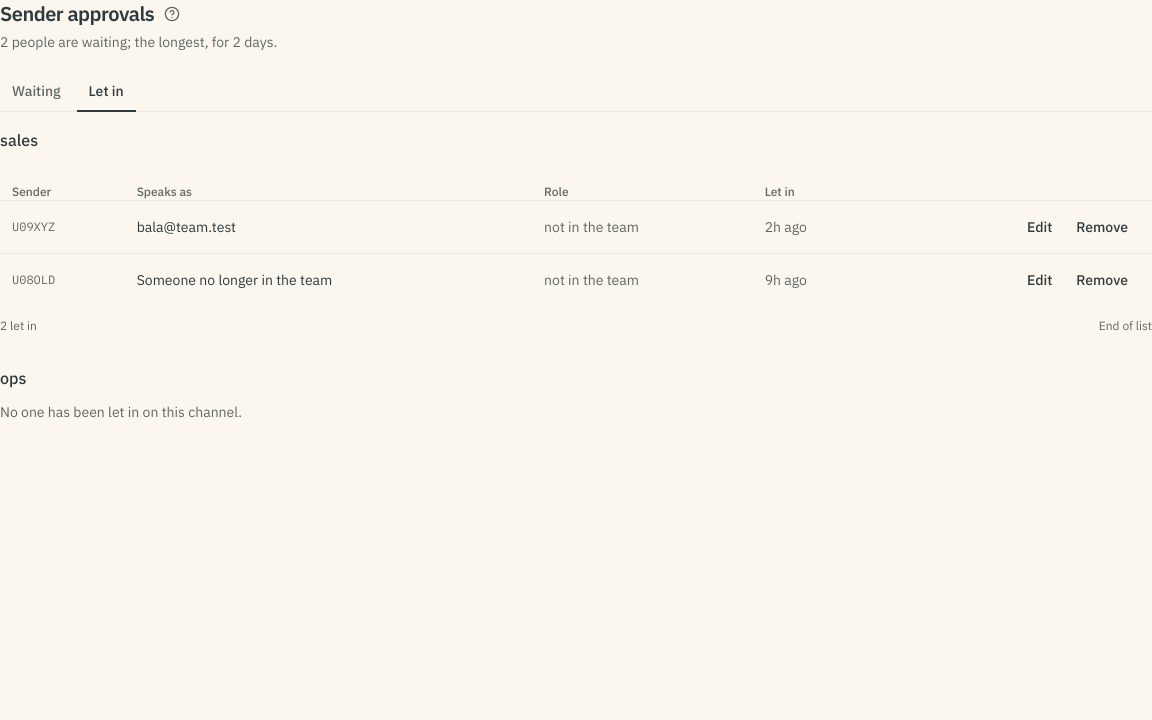
Test: stops letting someone in once it is confirmed, on their own channel
Click the button with aria-label "Remove U09XYZ" at (1102,226), box 1064,210 -> 1140,242
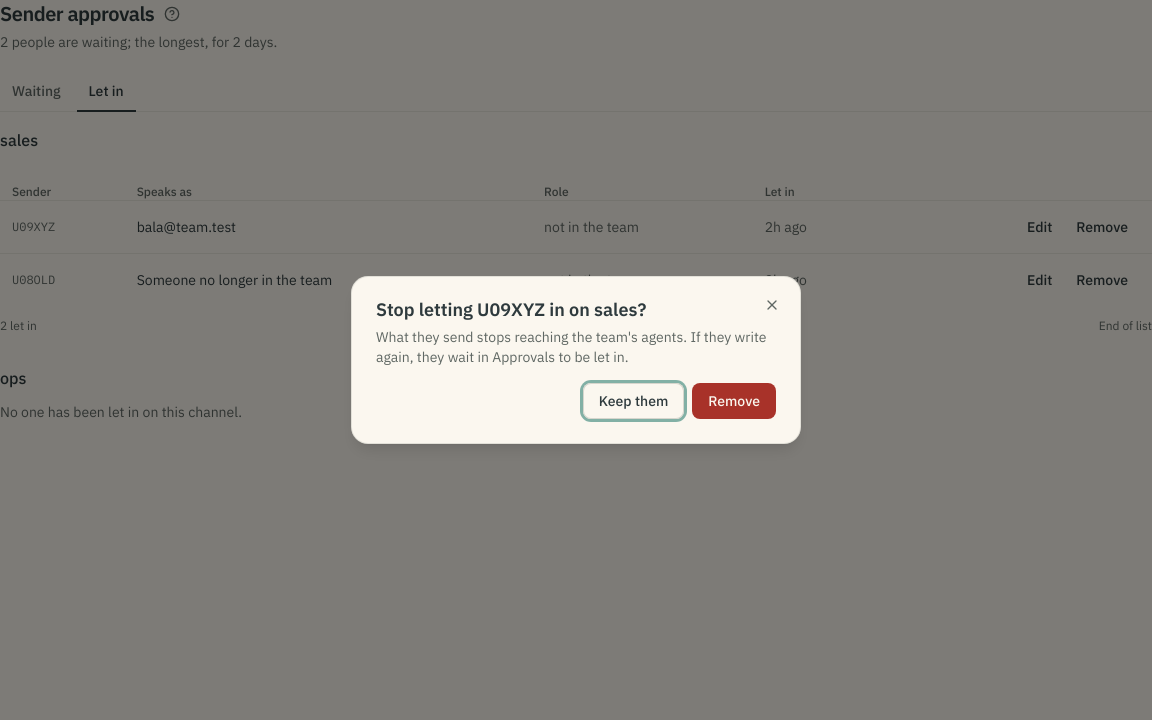
Click the button "Remove" at (734,401), box 692,383 -> 776,419
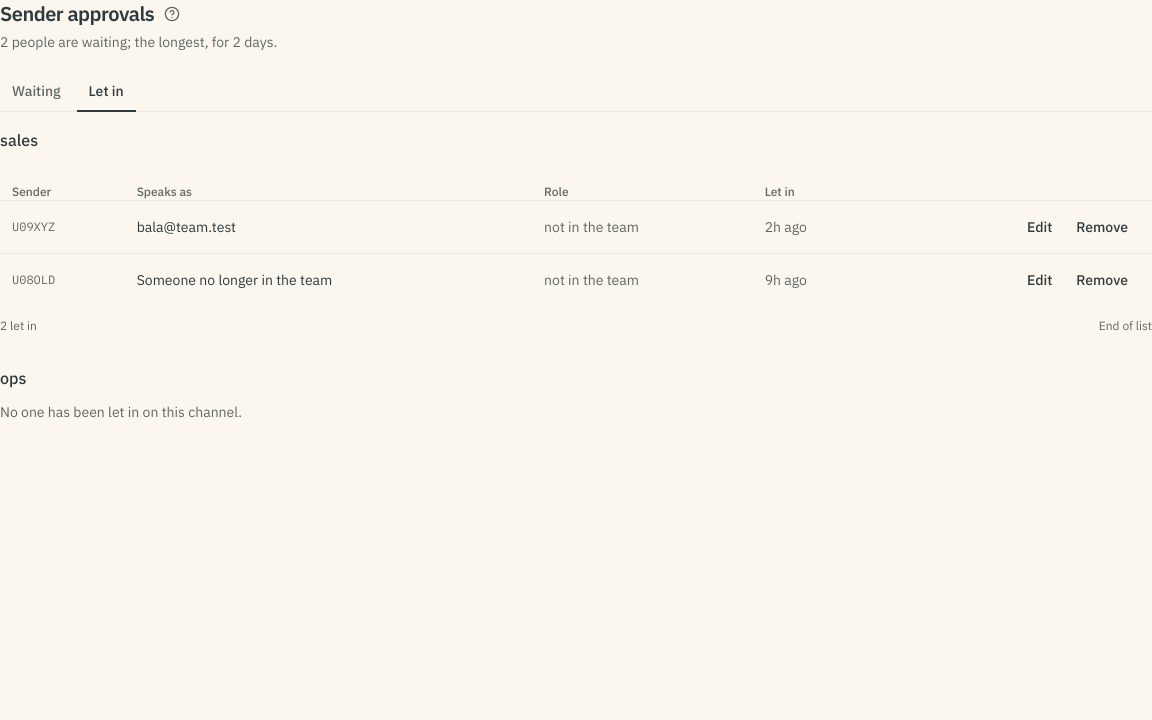
Expected: the dialog is gone
